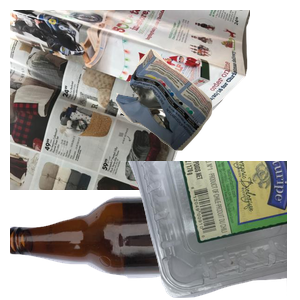glass: (10, 188, 250, 300)
paper: (10, 10, 250, 190)
plastic: (60, 161, 300, 300)
trash: (113, 46, 300, 189)
